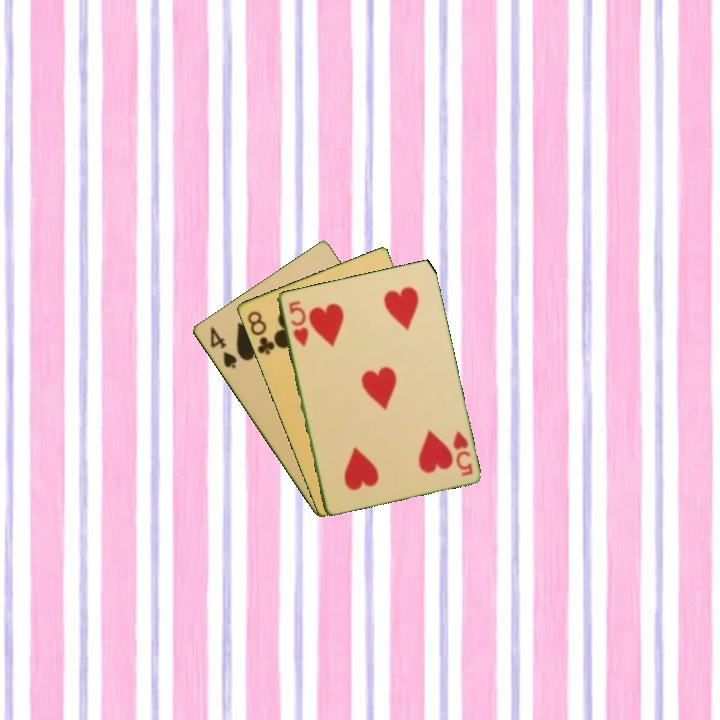4s: (206, 323, 240, 372)
5h: (285, 297, 311, 349), (449, 427, 475, 479)
8c: (243, 307, 277, 358)
